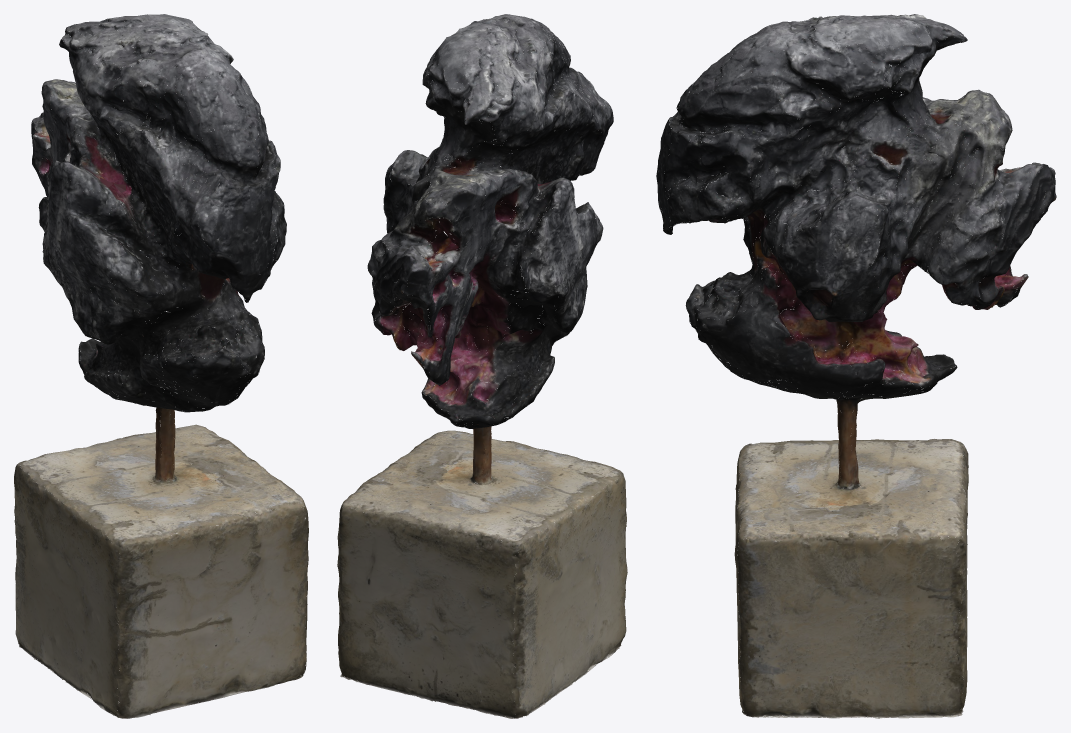
The model's file is earth.glb.
3 renders of one model, left to right at view 1: azimuth 30°, elevation 25°; view 2: azimuth 150°, elevation 25°; view 3: azimuth 270°, elevation 25°, orthographic. The views are drawn at different scales.
Visible parts, largest first — view 1: Mesh_0_Part_0; view 2: Mesh_0_Part_0; view 3: Mesh_0_Part_0.
Part boxes in pixels (x1=…): Mesh_0_Part_0: x1=14, y1=14, x2=308, y2=718; Mesh_0_Part_0: x1=337, y1=14, x2=627, y2=718; Mesh_0_Part_0: x1=656, y1=14, x2=1056, y2=718.
Bounding box in the file's own units: 2.41 × 7.33 × 4.08.
Materials: 1 (1 with a texture image).
